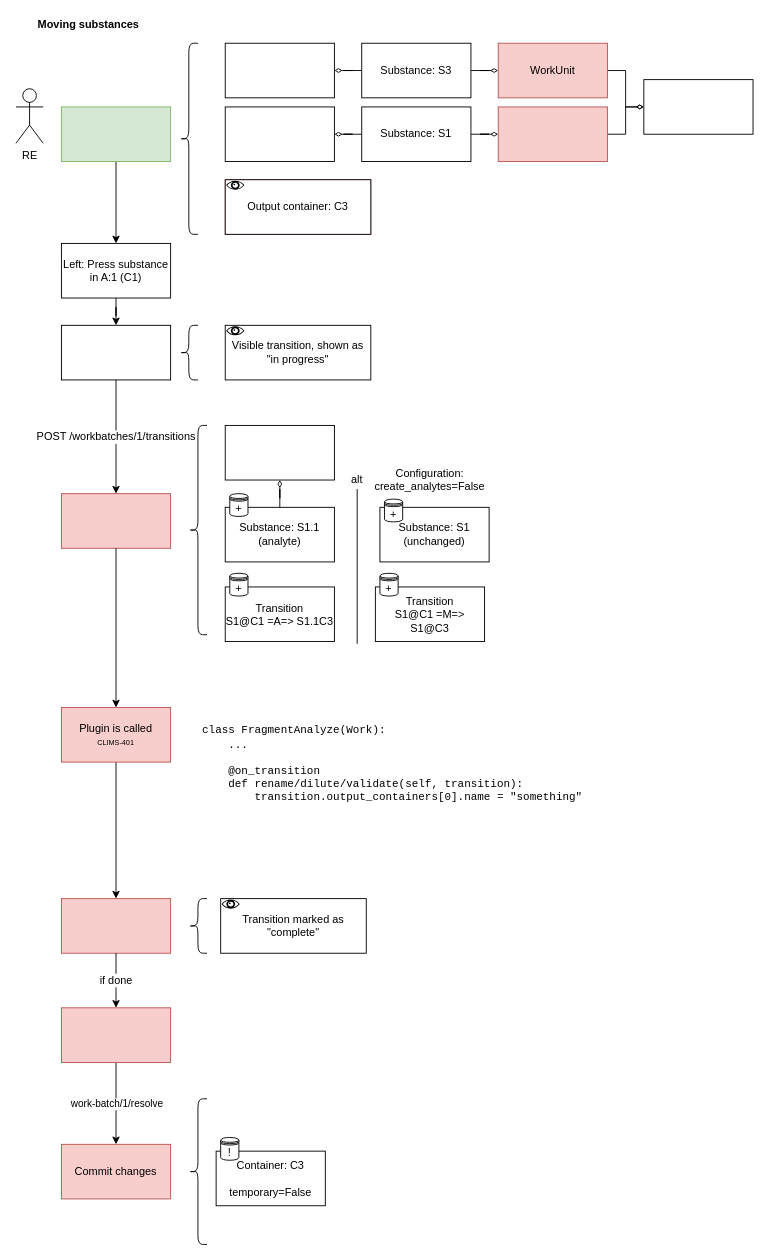
This 769x1260 diagram has some shape labels left out. The centre of each missing label's shape, as x and y in pixels:
"2.3.2: Open work" belongs at point 116,134.
"Click resolve" belongs at point 116,1034.
"Container: C1" belongs at point 279,134.
"Container: C2" belongs at point 279,70.
"Container: C3 temporary=True" belongs at point 279,452.
"Response to UI CLIMS-402" belongs at point 116,925.
"Right: Press an empty slot in A:12 (C3)" belongs at point 116,352.
"Transition saved CLIMS-399" belongs at point 116,520.
"WorkBatch" belongs at point 698,106.
"WorkUnit CLIMS-400" belongs at point 552,134.
